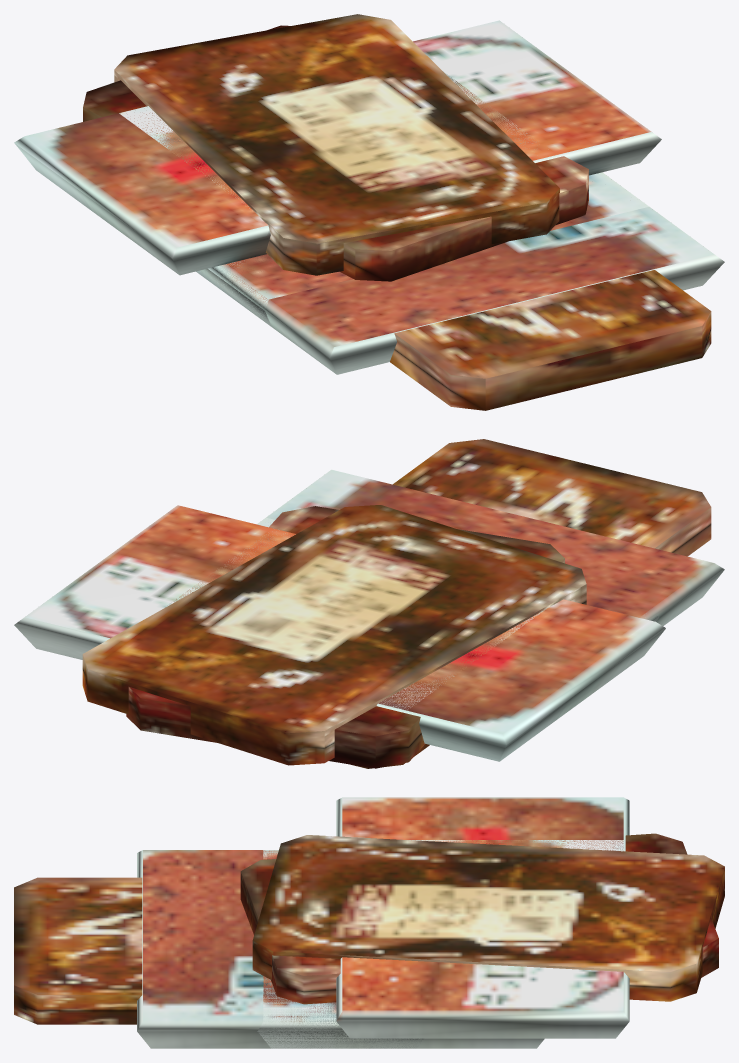
File: fleischwaren_03.fbx
3 renders of one model, top to bottom at view 1: azimuth 30°, elevation 25°; view 2: azimuth 150°, elevation 25°; view 3: azimuth 270°, elevation 25°, orthographic. The views are drawn at different scales.
Parts seen in each view (by area): view 1: steak_bundle_01a, hackfleisch_bundle_01a, hackfleisch_bundle_01b, steak_bundle_01b, hackfleisch_01a; view 2: steak_bundle_01a, hackfleisch_bundle_01a, hackfleisch_bundle_01b, steak_bundle_01b; view 3: steak_bundle_01a, hackfleisch_bundle_01a, hackfleisch_bundle_01b, steak_bundle_01b, hackfleisch_01a.
Part boxes in pixels (x1,y1,x2,y2): steak_bundle_01a: (114,14,711,410); hackfleisch_bundle_01a: (119,20,724,374); hackfleisch_bundle_01b: (14,71,559,275); steak_bundle_01b: (83,25,588,281); hackfleisch_01a: (200,172,648,326); steak_bundle_01a: (82,439,711,765); hackfleisch_bundle_01a: (14,469,724,713); hackfleisch_bundle_01b: (165,533,665,761); steak_bundle_01b: (126,506,564,768); steak_bundle_01a: (14,835,724,1024); hackfleisch_bundle_01a: (137,840,629,1048); hackfleisch_bundle_01b: (336,797,629,850); steak_bundle_01b: (240,833,718,1004); hackfleisch_01a: (257,850,544,1048).
Size of the model in its own units: 28.08 by 3.71 by 38.22.
